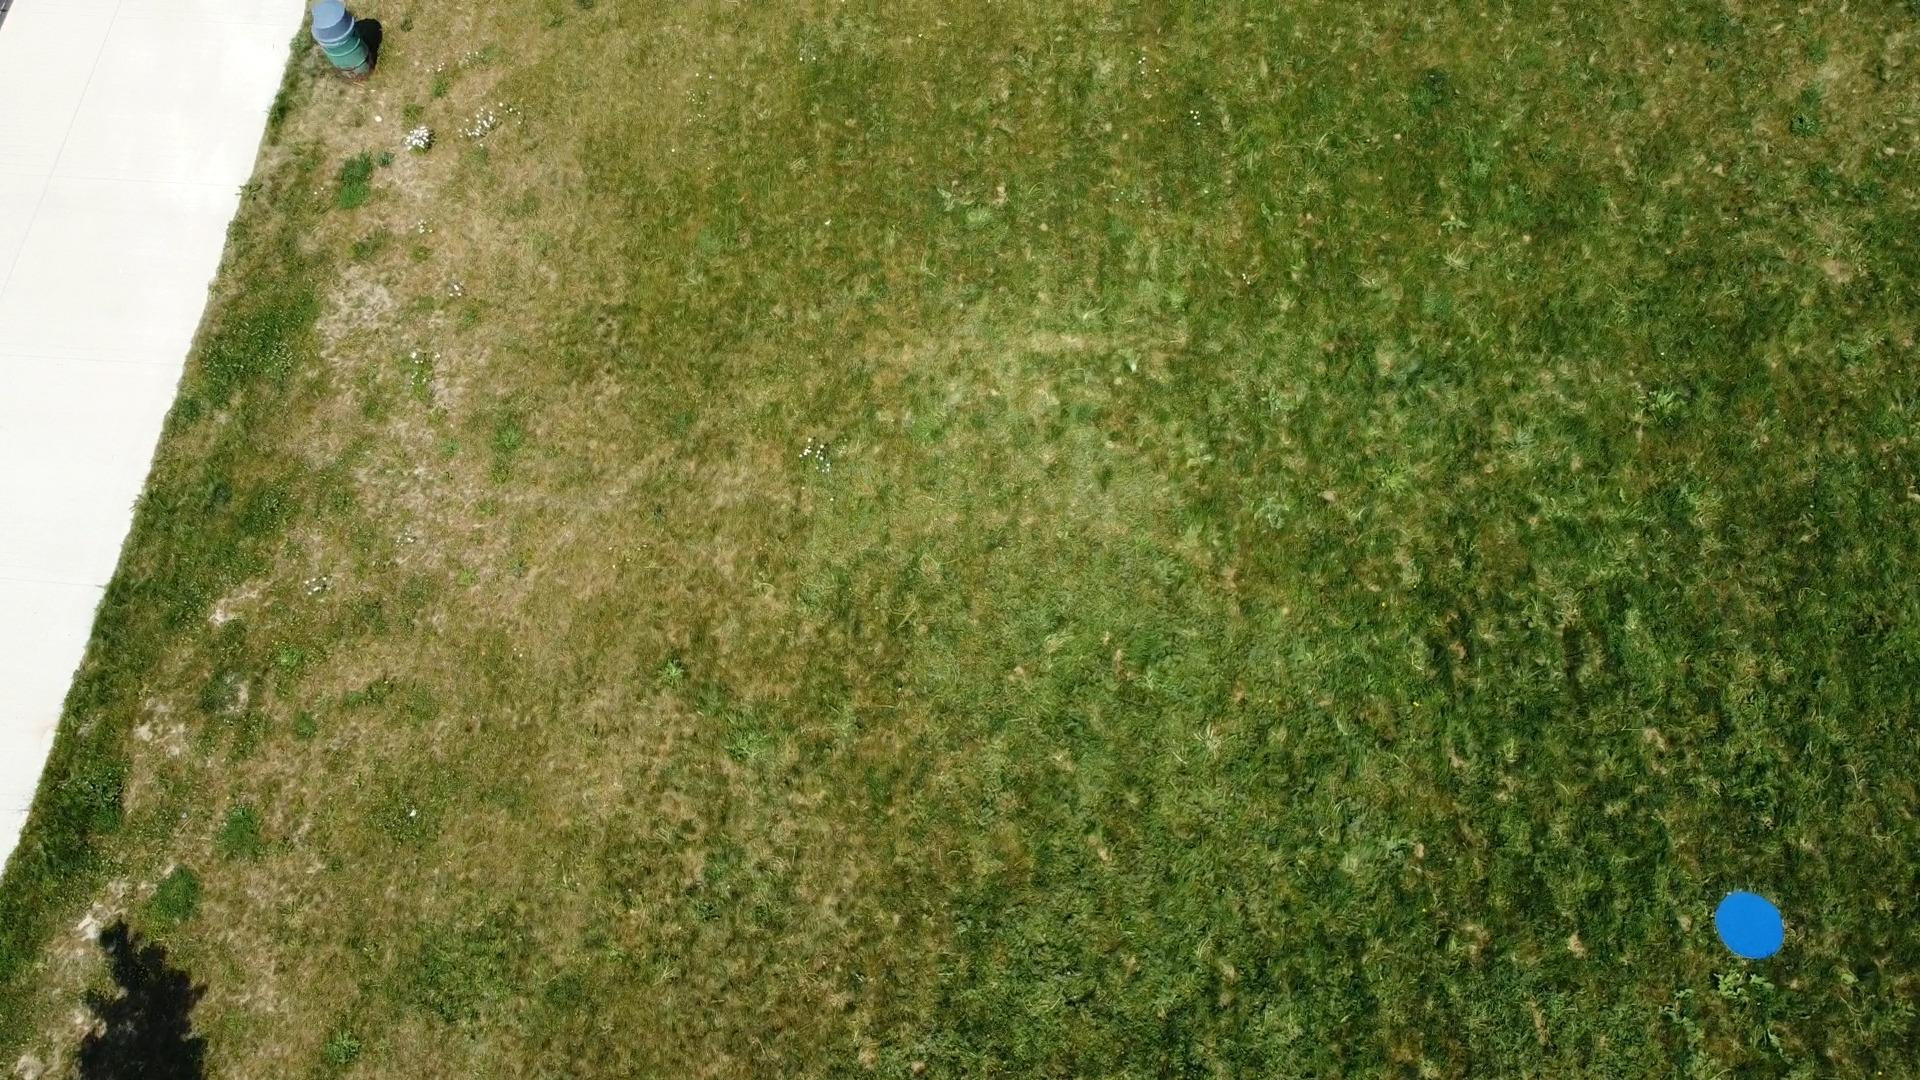Blue: (1713, 889, 1788, 962)
